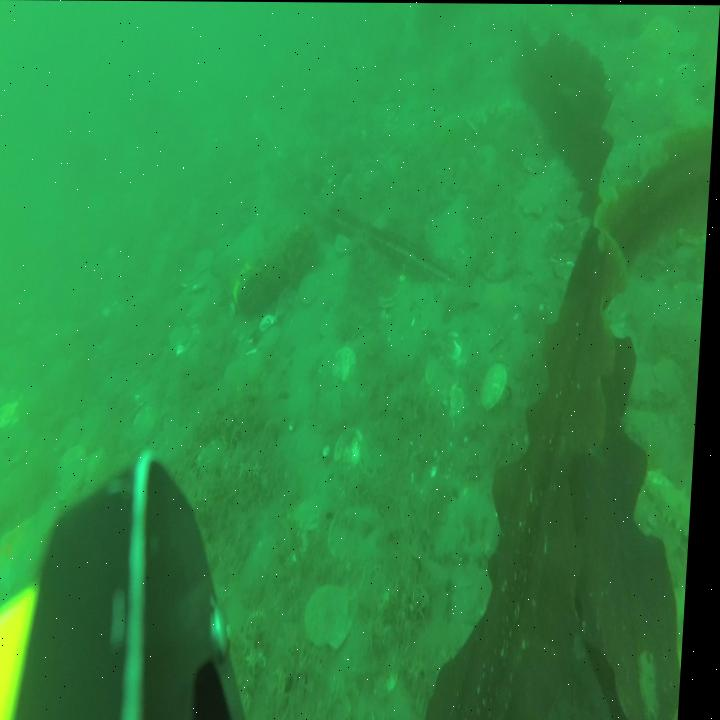holothurian: (648, 464, 698, 545)
scallop: (311, 582, 366, 649), (334, 502, 389, 563), (336, 426, 373, 475), (658, 355, 689, 404), (61, 447, 93, 494), (486, 359, 512, 412), (519, 183, 555, 221), (137, 405, 166, 445), (336, 350, 362, 387), (486, 249, 513, 283), (302, 274, 326, 310), (0, 400, 23, 437), (171, 322, 195, 353)
starfish: (0, 513, 48, 594)
